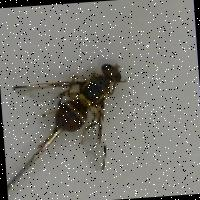Oriental-fruit-fly: (10, 43, 145, 187)
